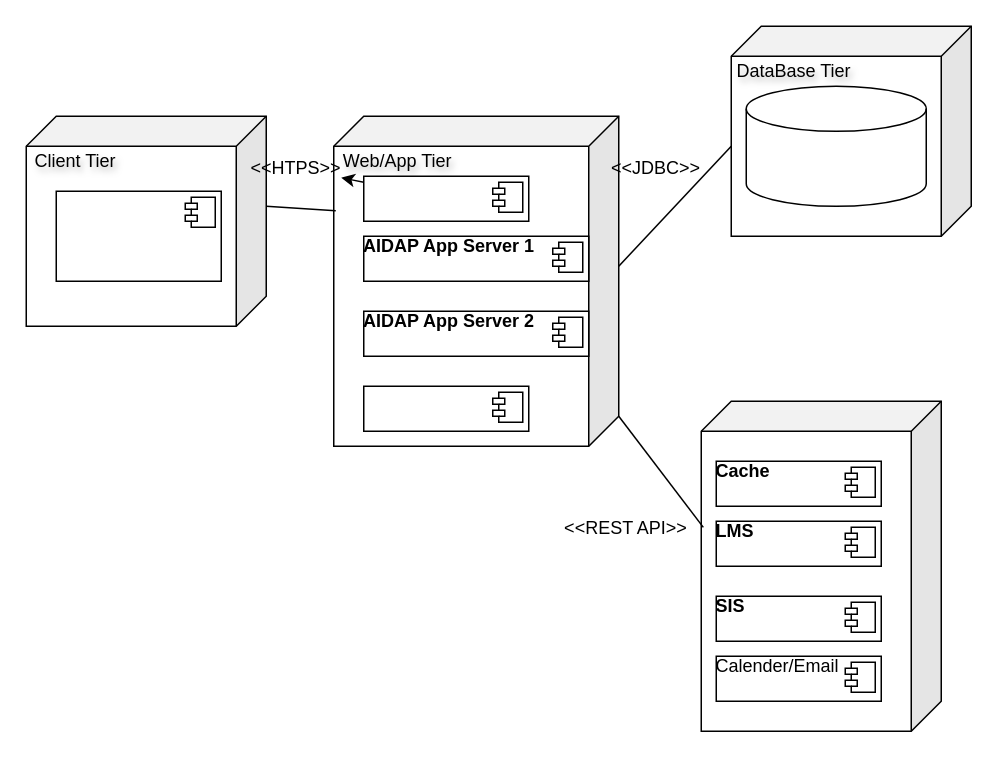
Some shapes in this 998 by 758 pixel diagram are drawn without their labels. The shapes that lost their labels are listed below. From the top down, each one's box as (x1, y1, x2, y2) in pixels, then its label:
(745, 85, 926, 206): DB Cluster
(362, 175, 529, 221): Load Balancer
(55, 190, 221, 281): User Device
(362, 385, 529, 431): Object Storage
(700, 400, 941, 731): External Systems
